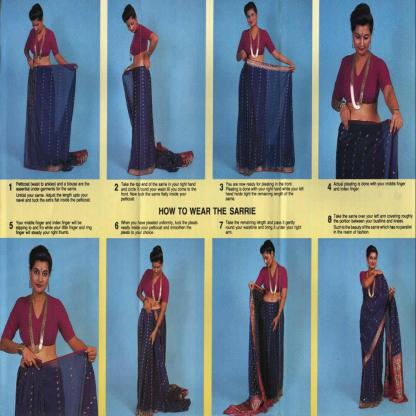face: (32, 265, 50, 294), (354, 28, 372, 55), (248, 11, 258, 28), (152, 262, 162, 277), (33, 21, 44, 33), (128, 20, 138, 33), (264, 254, 273, 267), (369, 254, 377, 268)
